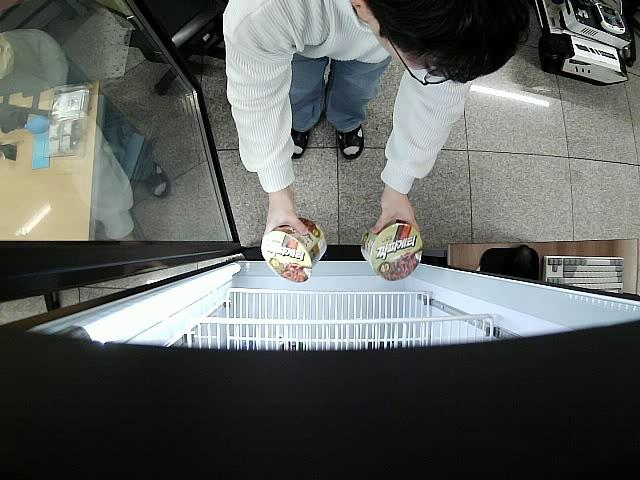00_hand: (370, 194, 421, 239), (264, 201, 309, 235)
03_chapagetti_L: (261, 217, 329, 284), (360, 221, 423, 281)
